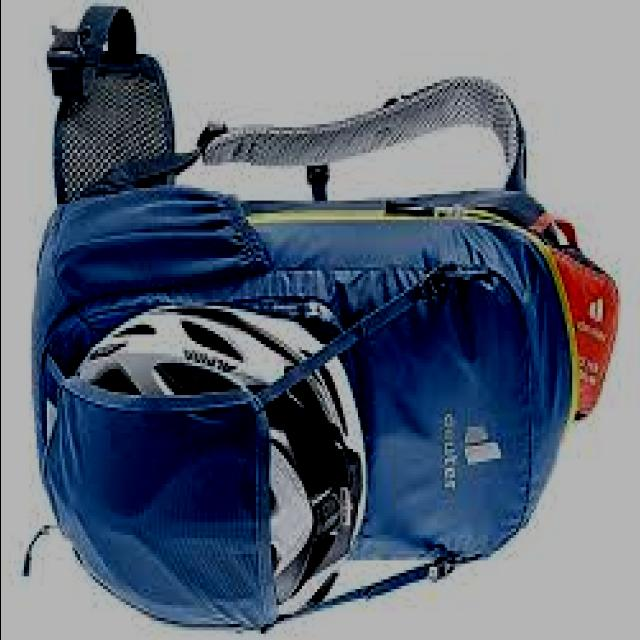backpack: (29, 5, 623, 635)
